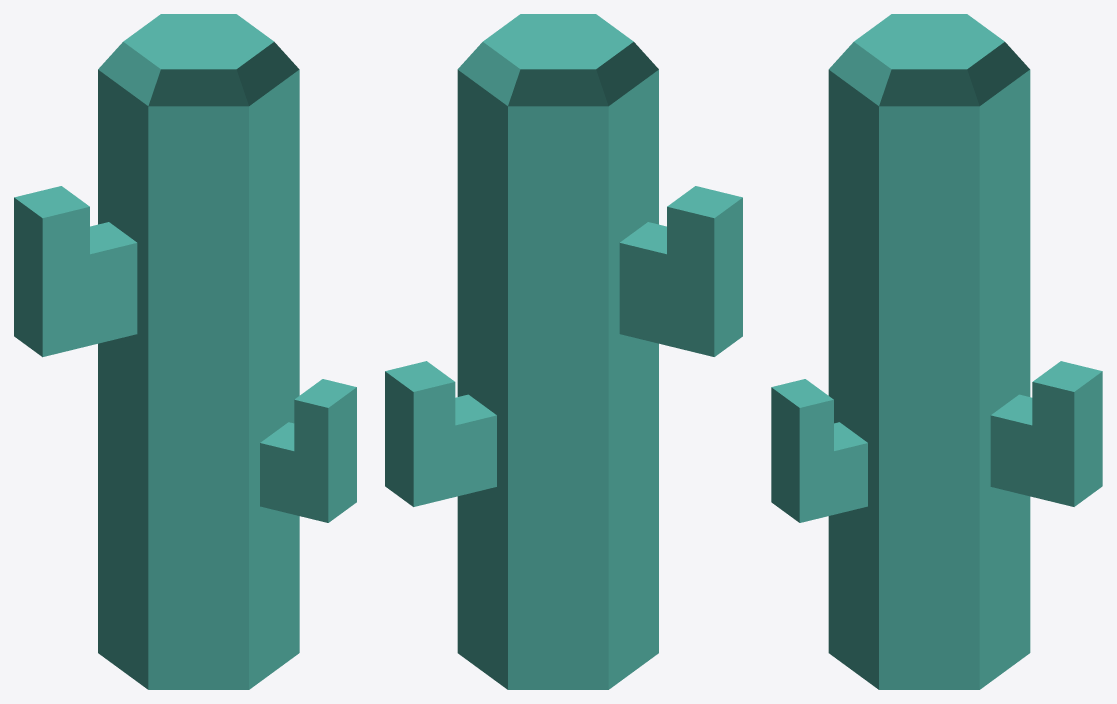
Rendered from cactus_short.obj.
The picture shows the model from 3 angles, left to right: view 1: azimuth 30°, elevation 25°; view 2: azimuth 150°, elevation 25°; view 3: azimuth 270°, elevation 25°; orthographic projection.
Parts seen in each view (by area): view 1: cactus_short; view 2: cactus_short; view 3: cactus_short.
Part boxes in pixels (x1,y1,x2,y2): cactus_short: (14, 14, 356, 689); cactus_short: (385, 14, 742, 689); cactus_short: (771, 14, 1102, 689).
Bounding box in the file's own units: 2.22 × 4.77 × 2.34.
